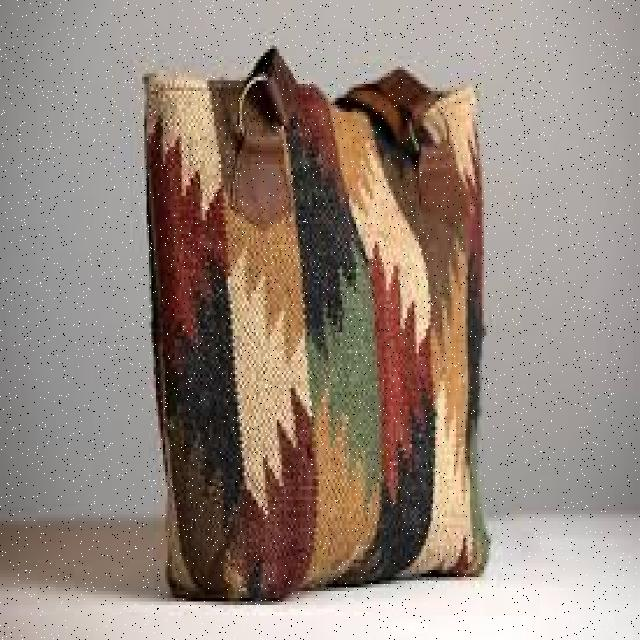handbag: (142, 46, 489, 602)
